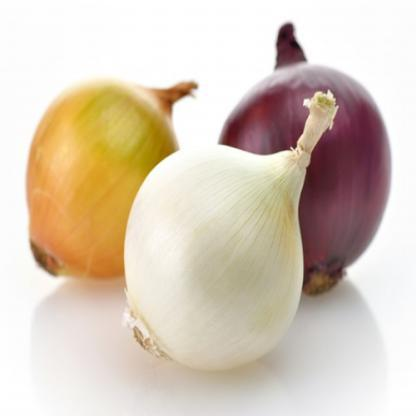onion: (126, 125, 304, 362), (220, 76, 390, 291), (19, 66, 176, 276)
